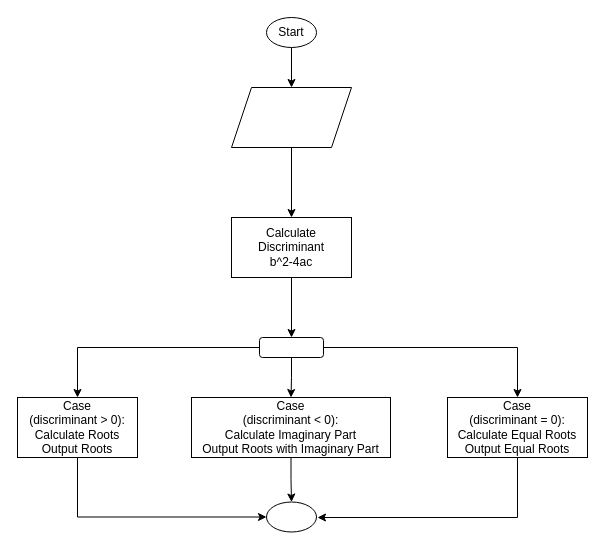
The diagram is 605 pixels wide and 550 high, and some of its shapes have lost their labels. The shapes that lost their labels are listed below. From the top down, each one's centre as x and y in pixels, then its label:
the point at 291,117: Input a, b, c
the point at 291,347: Switch
the point at 291,516: Stop
